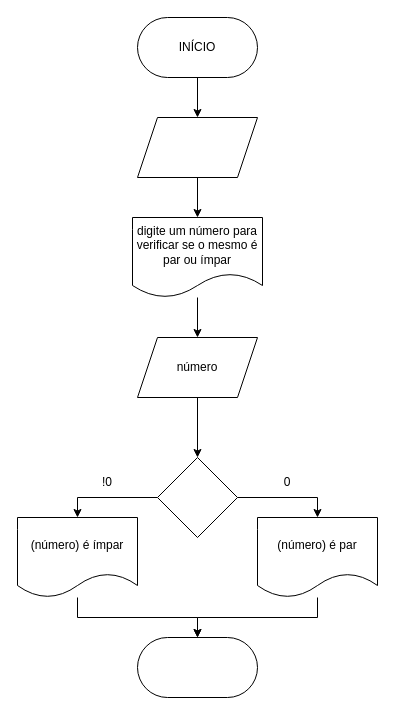
Some shapes in this 395 by 715 pixel diagram are drawn without their labels. Here are the shapes that lost their labels. From the top down, the centre of each, then its label:
At [197,147]: "número = 0".
At [197,497]: "número % 2".
At [197,667]: "FIM".
